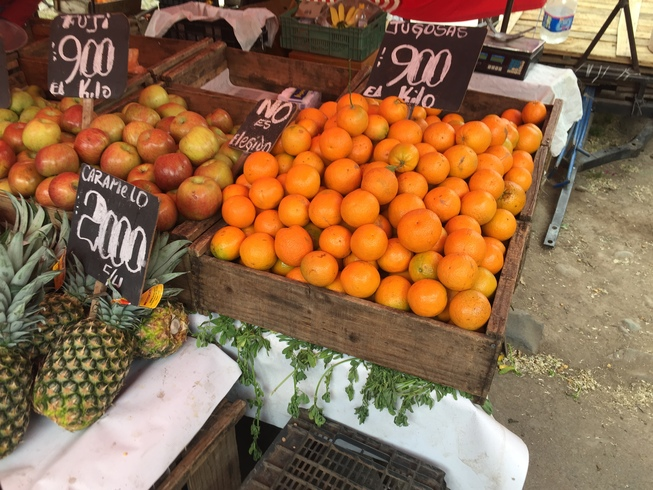precio: (65, 160, 161, 302), (370, 16, 468, 121), (47, 11, 129, 102), (240, 94, 295, 159)
